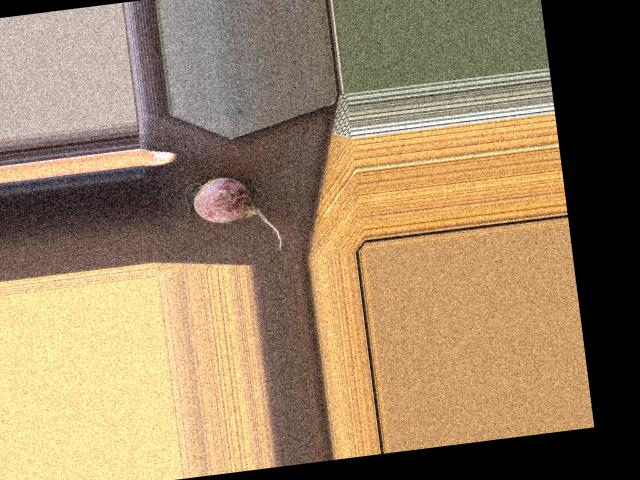beet: (176, 171, 283, 260)
